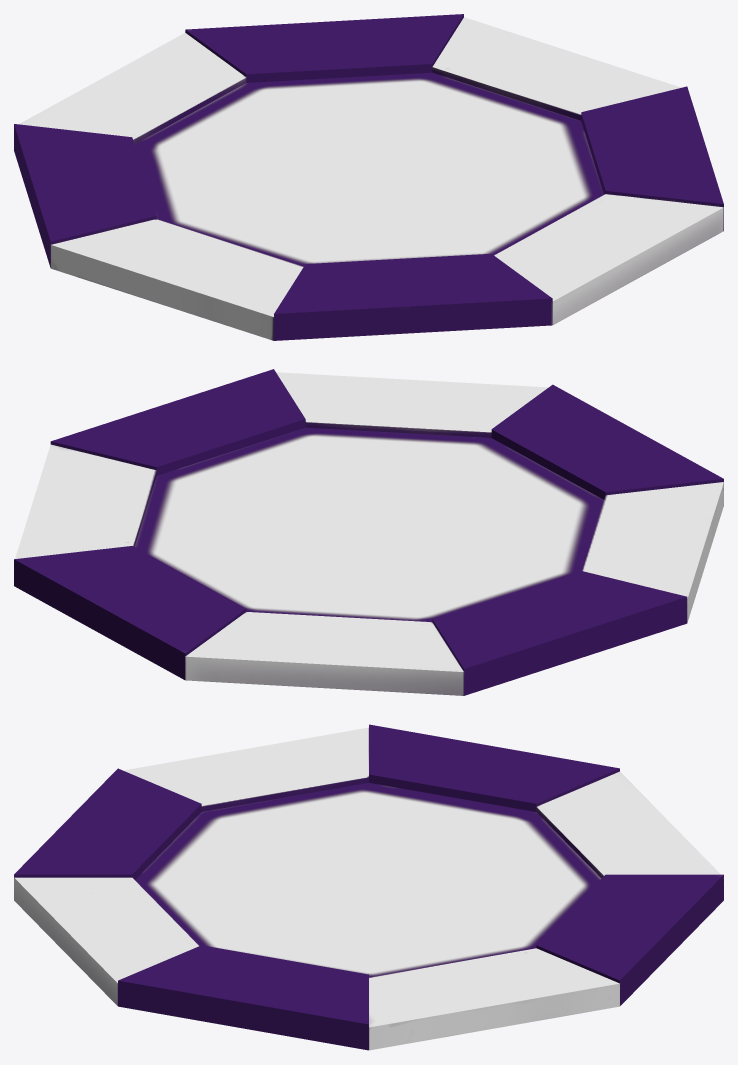
The model's file is PokerChip.fbx.
3 renders of one model, top to bottom at view 1: azimuth 30°, elevation 25°; view 2: azimuth 150°, elevation 25°; view 3: azimuth 270°, elevation 25°, orthographic. The views are drawn at different scales.
Visible parts, largest first — view 1: pCylinder35; view 2: pCylinder35; view 3: pCylinder35.
Boxes of the visible parts, left/top/right/bottom form: pCylinder35: left=14, top=14, right=723, bottom=340; pCylinder35: left=14, top=369, right=723, bottom=695; pCylinder35: left=14, top=724, right=723, bottom=1050.
Bounding box in the file's own units: 0.2751 × 0.0111 × 0.2751.
Materials: 1 (1 with a texture image).
